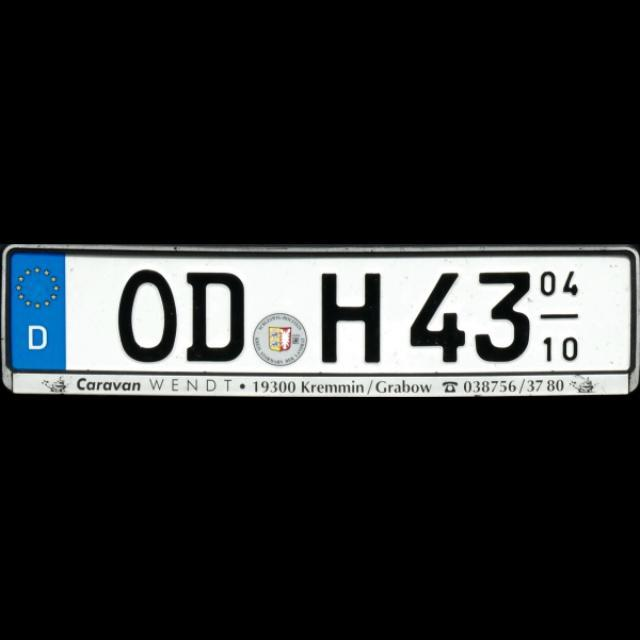license-plates: (2, 245, 640, 396)
